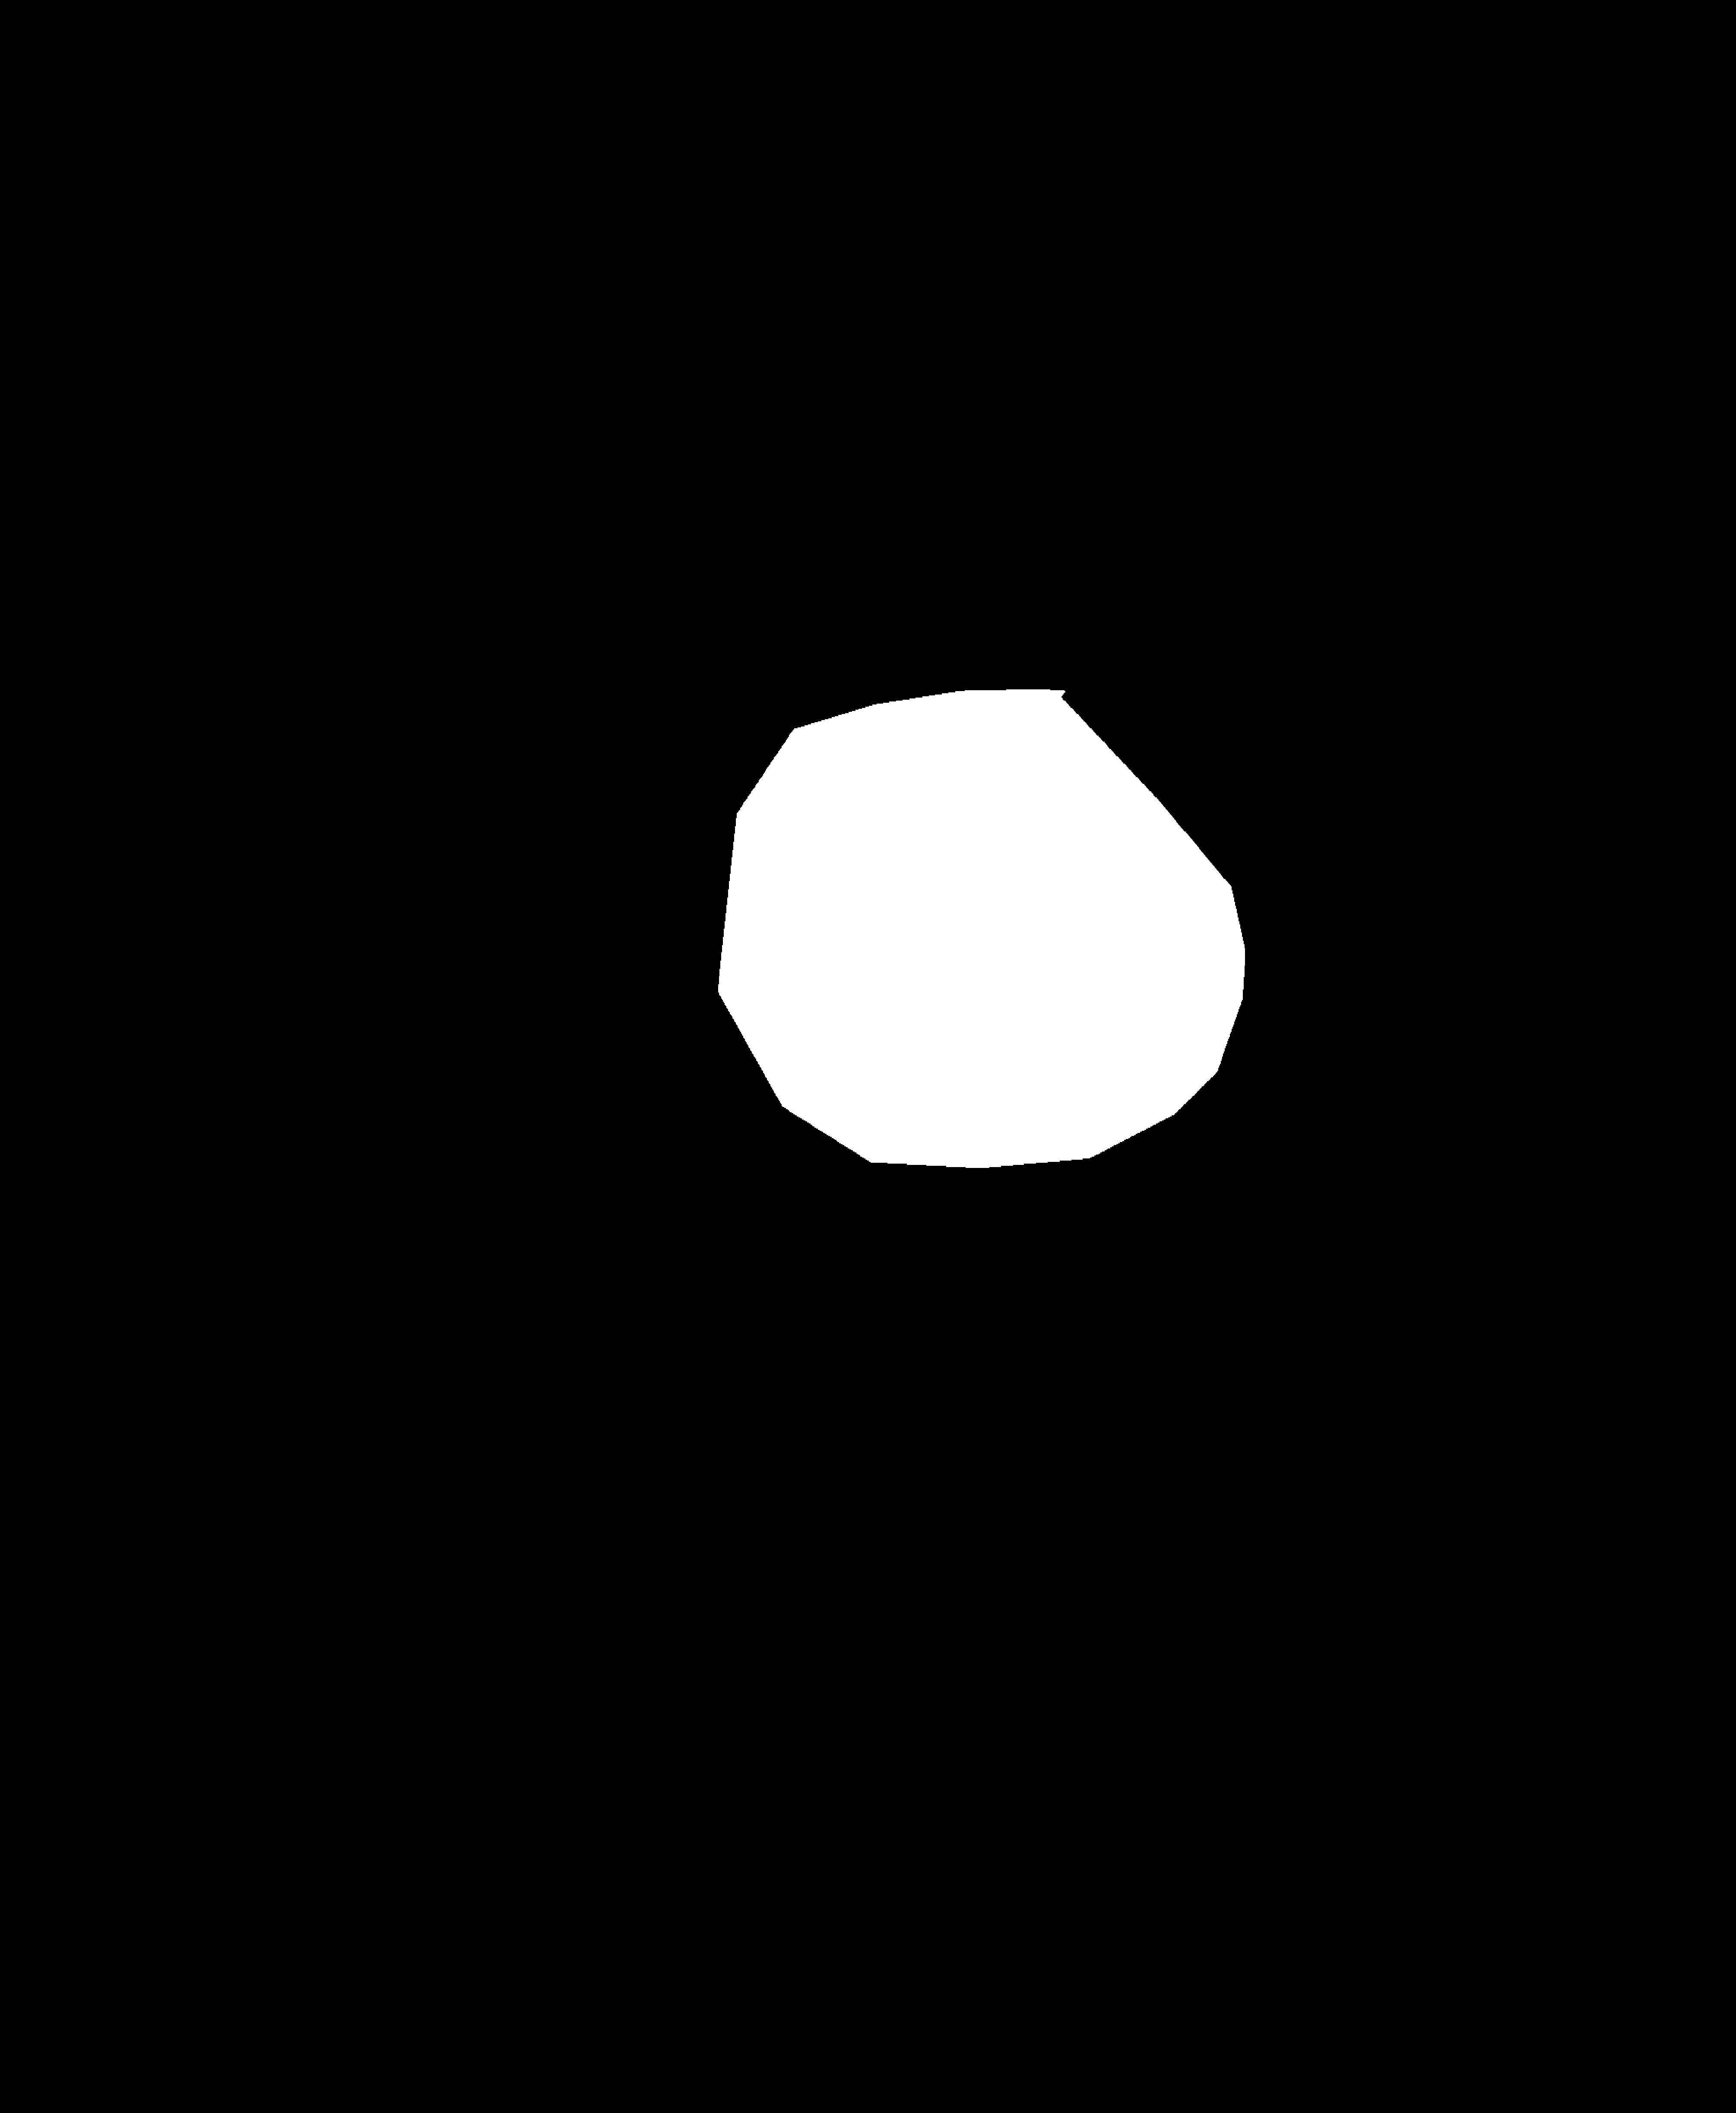heart: (707, 842, 1369, 1204)
left_lung: (365, 237, 827, 1174)
right_lung: (971, 239, 1450, 1239)
